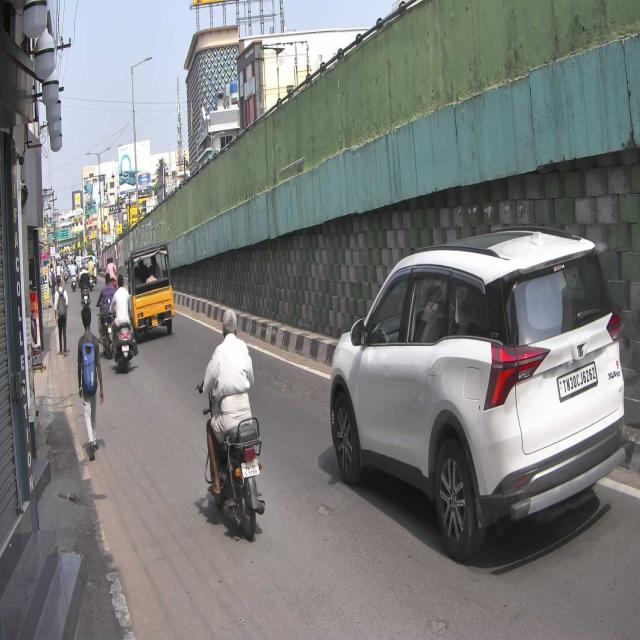single_rider: (196, 305, 264, 541)
